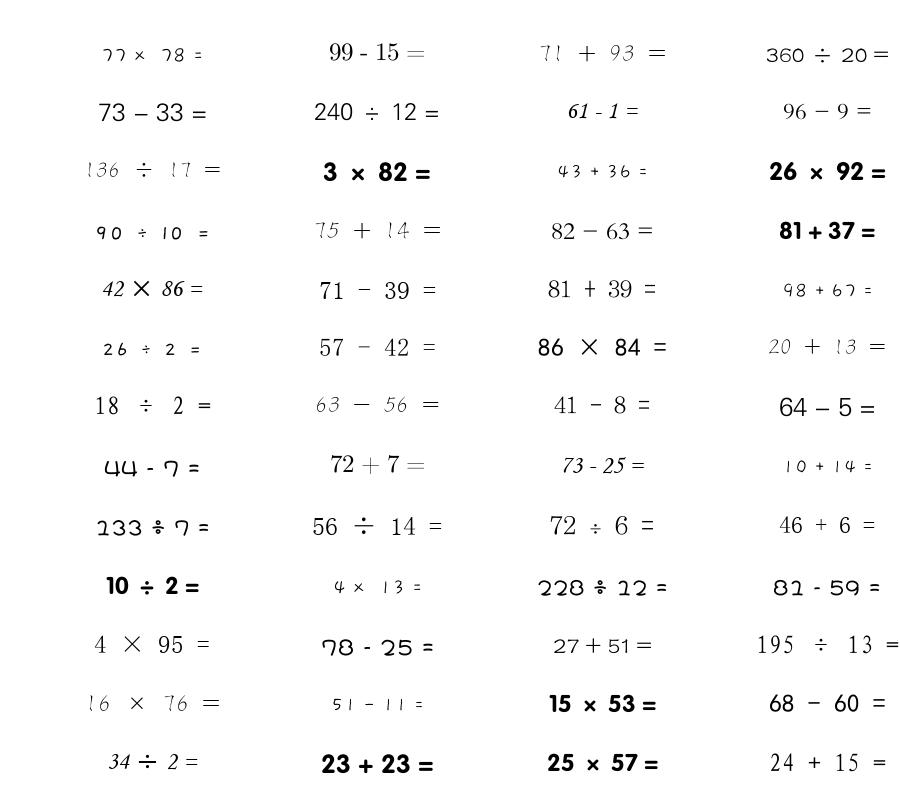MQ: (756, 635, 899, 654), (769, 161, 886, 181), (312, 517, 442, 535), (538, 338, 667, 356), (85, 695, 220, 712), (314, 221, 441, 239), (314, 103, 440, 121), (321, 754, 434, 774), (537, 579, 668, 596), (94, 396, 211, 415), (769, 694, 886, 713), (769, 753, 886, 772), (84, 162, 221, 178), (323, 162, 431, 182), (539, 45, 666, 62), (547, 753, 658, 772), (319, 338, 436, 356), (94, 635, 210, 653), (550, 515, 654, 535), (98, 103, 207, 122), (549, 694, 656, 713), (315, 396, 440, 412), (319, 282, 436, 299), (548, 280, 656, 298), (779, 397, 876, 417), (321, 639, 434, 656), (330, 455, 425, 475), (768, 339, 886, 355), (766, 48, 889, 63), (95, 520, 210, 536), (773, 579, 881, 596), (779, 221, 875, 240), (106, 576, 199, 595), (551, 223, 654, 240), (101, 280, 203, 297), (329, 43, 425, 61), (554, 396, 650, 414), (553, 637, 652, 654), (104, 460, 200, 477), (779, 516, 875, 533), (94, 226, 210, 240), (101, 48, 203, 63), (783, 103, 872, 120), (107, 754, 198, 770), (560, 457, 644, 474), (102, 342, 202, 356), (557, 164, 648, 179), (782, 283, 873, 298), (333, 580, 422, 595), (331, 698, 424, 712), (782, 460, 873, 474), (566, 103, 638, 119)
